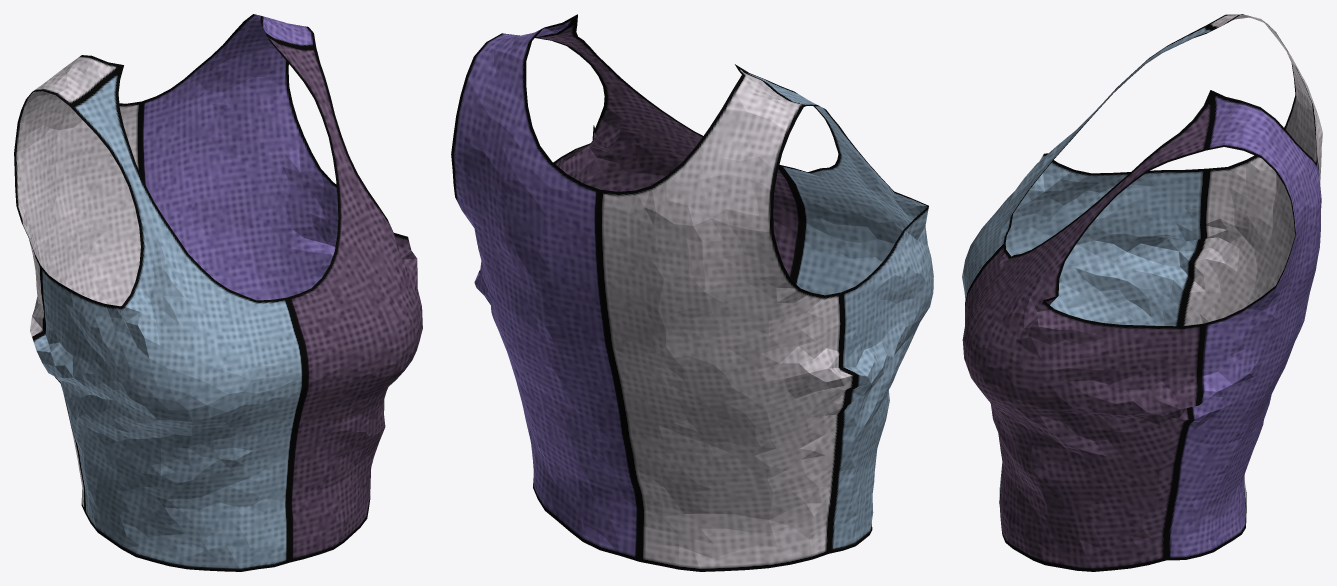
File: tank_knit4_c50_sim.obj
3 renders of one model, left to right at view 1: azimuth 30°, elevation 25°; view 2: azimuth 150°, elevation 25°; view 3: azimuth 270°, elevation 25°, orthographic. The views are drawn at different scales.
Bounding box in the file's own units: 22.67 × 29.15 × 20.41.
Materials: 1 (1 with a texture image).
